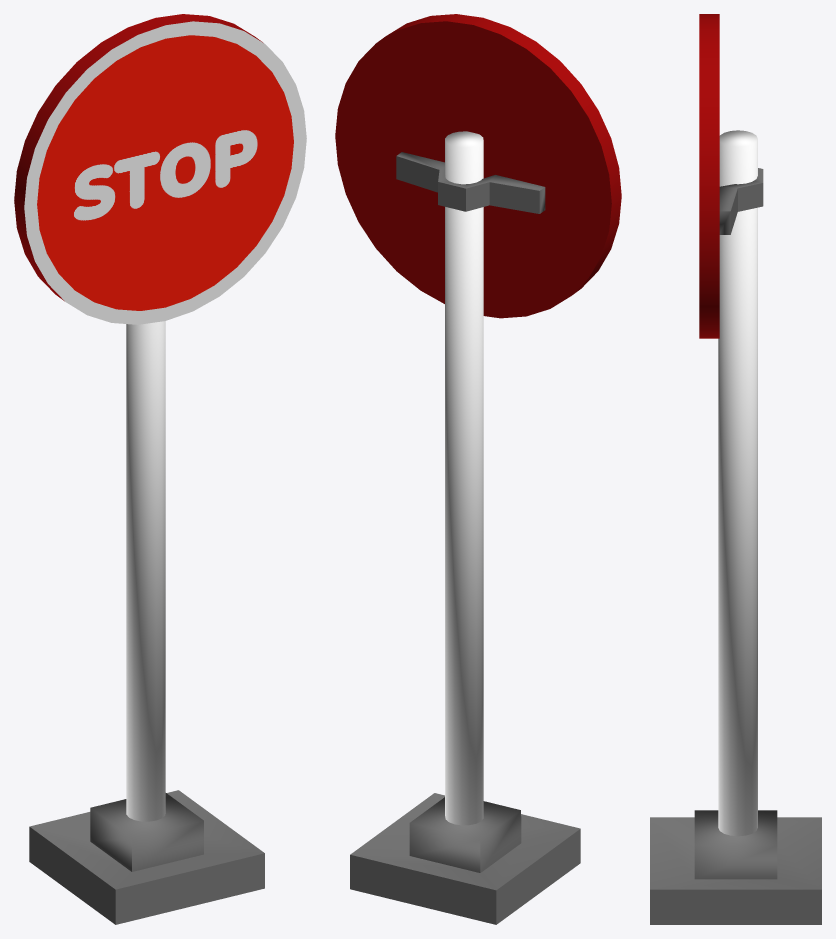
The model's file is Sign_4.fbx.
The picture shows the model from 3 angles, left to right: view 1: azimuth 30°, elevation 25°; view 2: azimuth 150°, elevation 25°; view 3: azimuth 270°, elevation 25°; orthographic projection. The views are drawn at different scales.
Parts seen in each view (by area): view 1: Sign_4; view 2: Sign_4; view 3: Sign_4.
Part boxes in pixels (x1,y1,x2,y2): Sign_4: [14, 14, 306, 924]; Sign_4: [335, 14, 621, 924]; Sign_4: [650, 14, 821, 924].
Bounding box in the file's own units: 1.11 × 0.5853 × 3.23.
